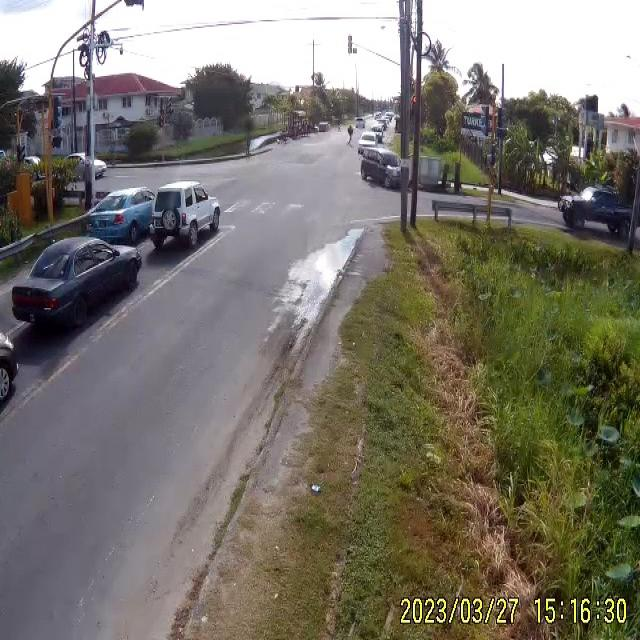car: (11, 236, 142, 335), (152, 182, 222, 250), (84, 189, 157, 247), (561, 187, 633, 238), (361, 148, 402, 188), (359, 132, 379, 148)
